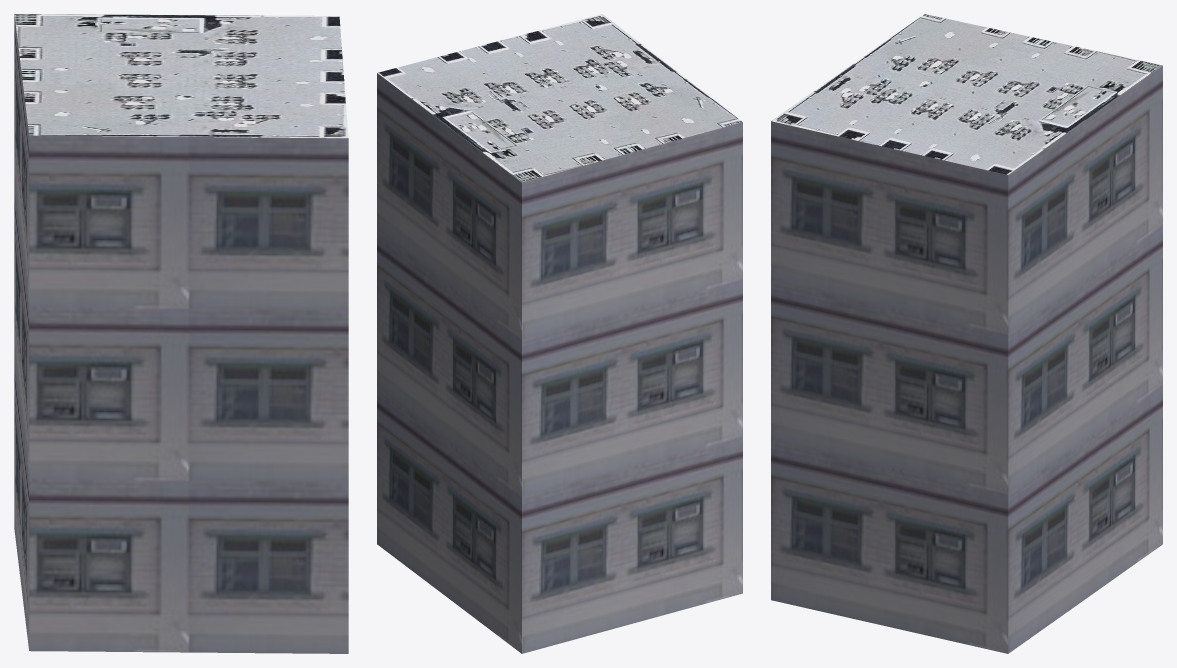
File: ResTex__3321.fbx
The picture shows the model from 3 angles, left to right: view 1: azimuth 30°, elevation 25°; view 2: azimuth 150°, elevation 25°; view 3: azimuth 270°, elevation 25°; orthographic projection. The views are drawn at different scales.
Visible parts, largest first — view 1: CityEngineMaterial_1_m, CityEngineMaterial_m; view 2: CityEngineMaterial_1_m, CityEngineMaterial_m; view 3: CityEngineMaterial_1_m, CityEngineMaterial_m.
Part boxes in pixels (left/top/right/bottom): CityEngineMaterial_1_m: left=14, top=14, right=348, bottom=653; CityEngineMaterial_m: left=14, top=14, right=348, bottom=138; CityEngineMaterial_1_m: left=377, top=73, right=742, bottom=653; CityEngineMaterial_m: left=377, top=14, right=742, bottom=182; CityEngineMaterial_1_m: left=771, top=65, right=1162, bottom=653; CityEngineMaterial_m: left=771, top=14, right=1162, bottom=174.
Bounding box in the file's own units: 6.49 × 9 × 6.67.
2 materials, 2 textured.
